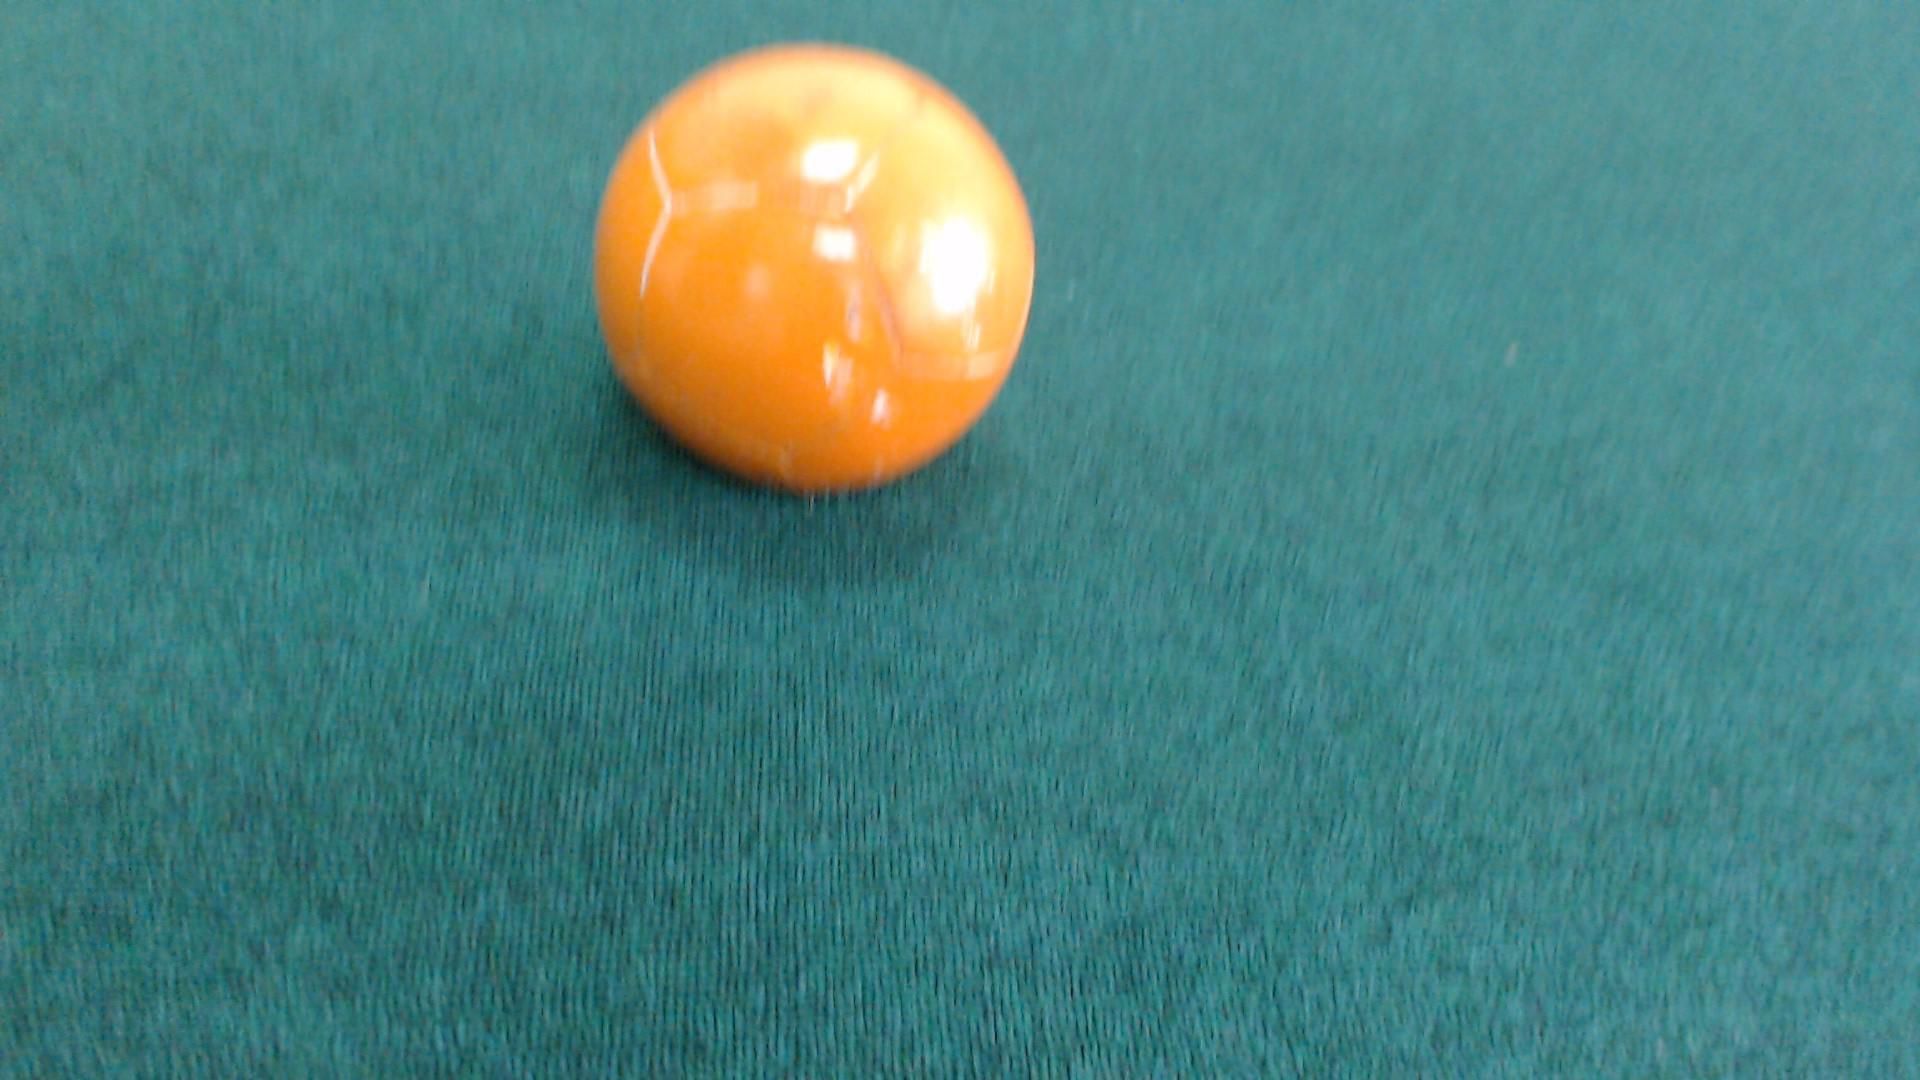bola: (576, 44, 1065, 495)
